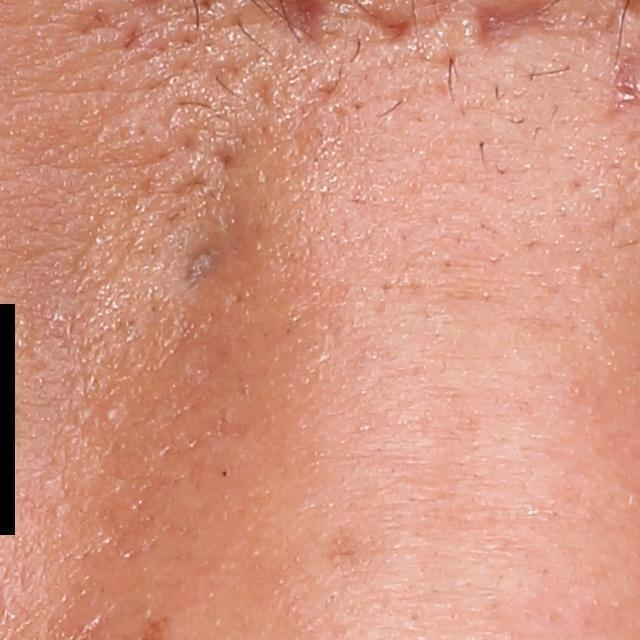comedo: (101, 403, 122, 423)
